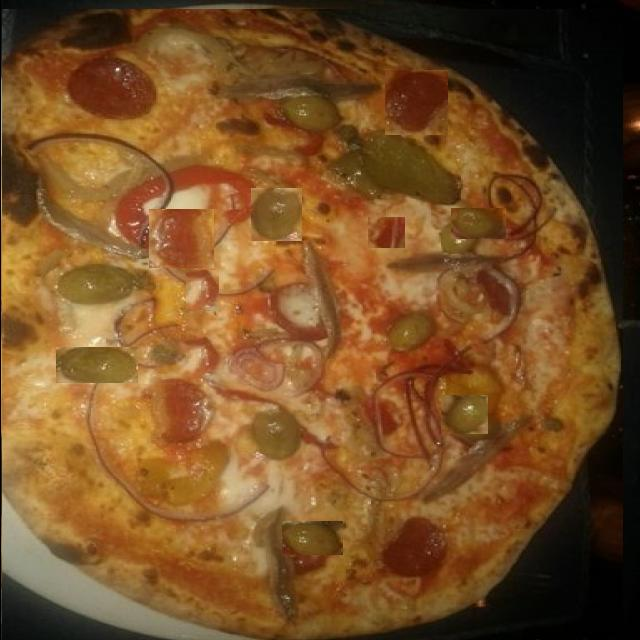olive: (55, 347, 137, 383), (250, 188, 301, 241), (381, 297, 440, 335), (281, 521, 342, 555), (440, 395, 487, 434), (448, 208, 504, 239)
pepperoni: (68, 530, 162, 590), (437, 324, 524, 383), (382, 70, 447, 135), (148, 209, 213, 268), (271, 309, 335, 367), (185, 270, 218, 311), (367, 217, 404, 248)
pizza: (1, 9, 622, 640)
